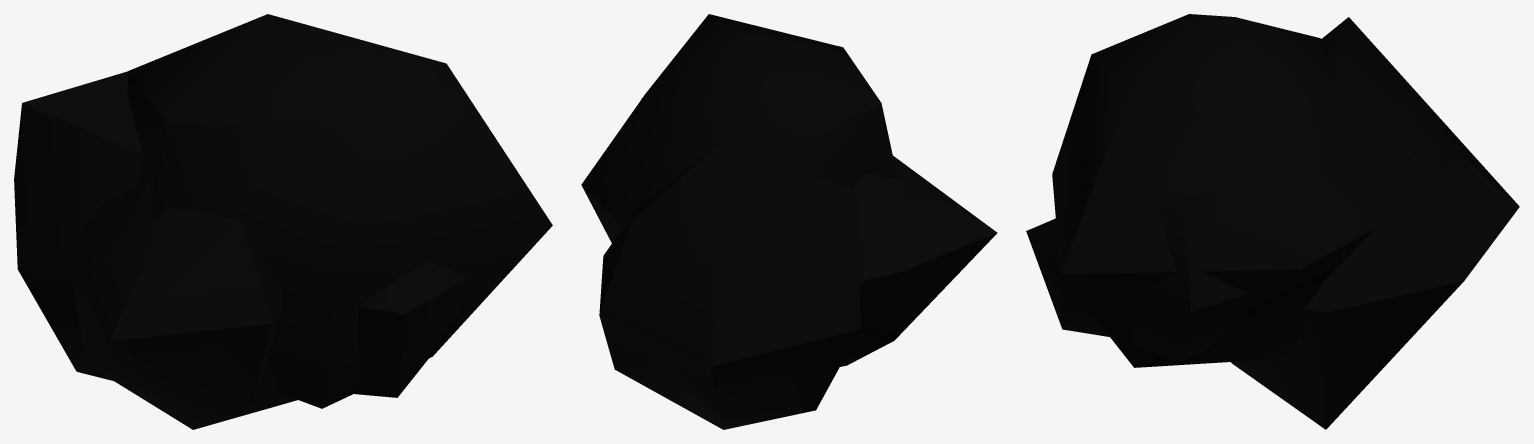
The model's file is SM_bush.fbx.
3 renders of one model, left to right at view 1: azimuth 30°, elevation 25°; view 2: azimuth 150°, elevation 25°; view 3: azimuth 270°, elevation 25°, orthographic. The views are drawn at different scales.
Visible parts, largest first — view 1: bush; view 2: bush; view 3: bush.
Part boxes in pixels (x1,y1,x2,y2): bush: (14, 14, 552, 429); bush: (581, 14, 997, 429); bush: (1026, 14, 1519, 429).
Bounding box in the file's own units: 1.56 × 1.47 × 1.69.
